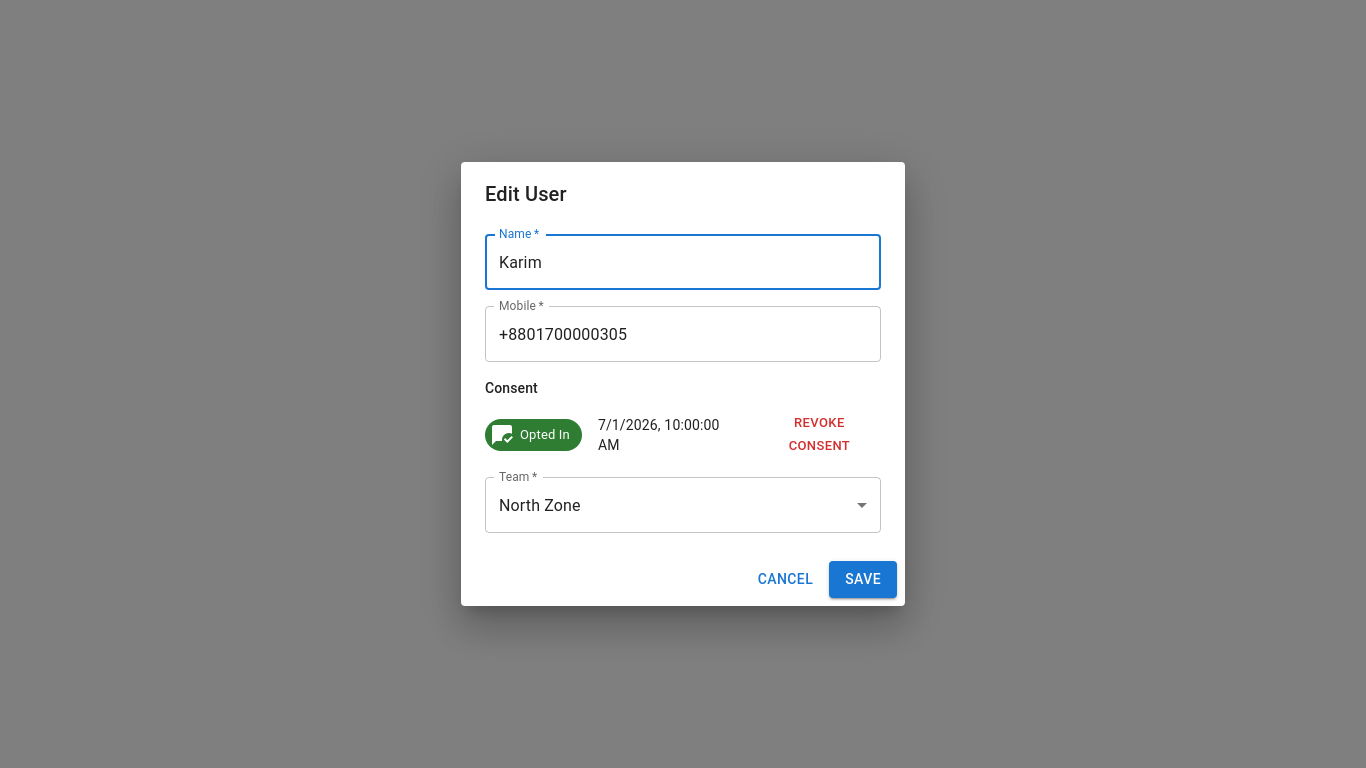
UserFormDialog › clicking Revoke Consent opens the ConfirmationDialog naming the real consequence, DELETEs on confirm, and flips the badge
Click the button "Revoke Consent".
click(819, 435)  # box [758, 408, 881, 462]
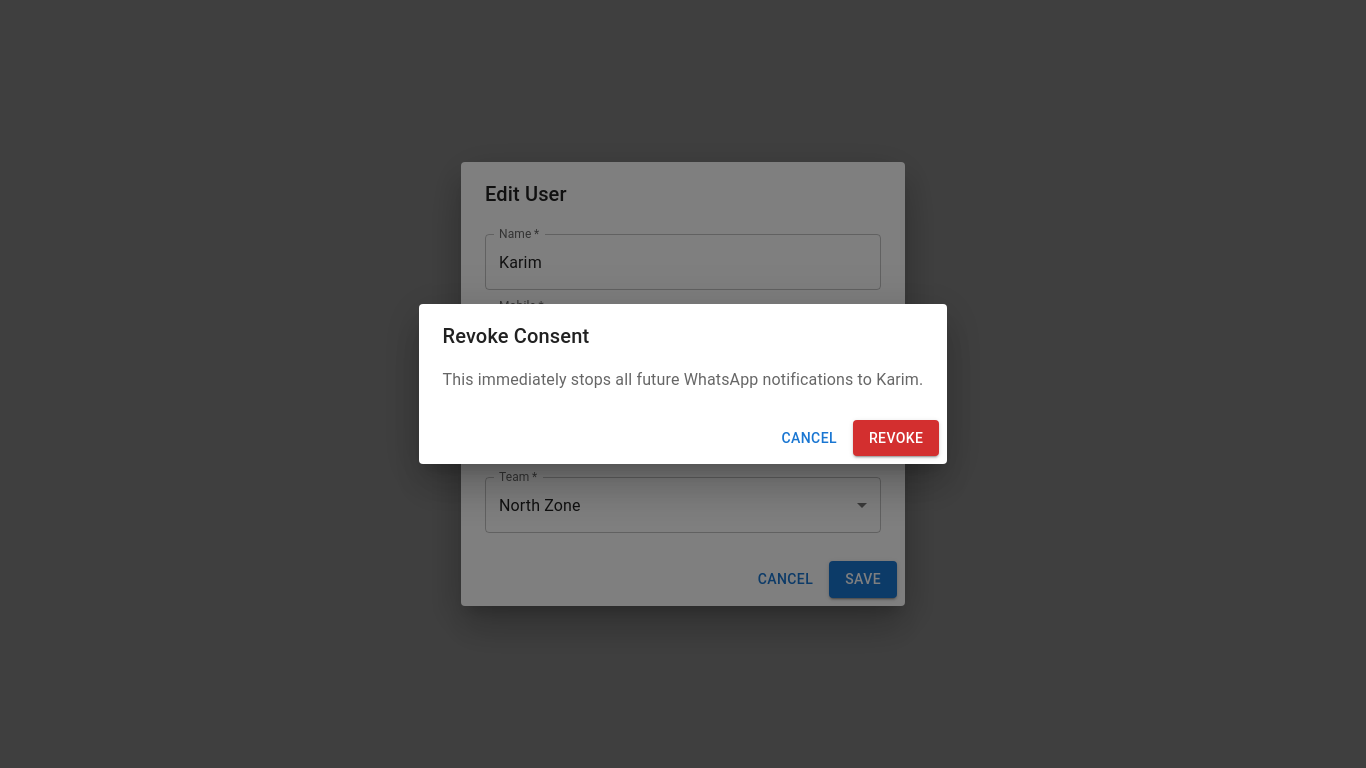
Expected: the text "This immediately stops all future WhatsApp notifications to Karim." is shown, [443, 368, 924, 392]
Click the button "Revoke".
click(896, 438)  # box [853, 420, 940, 456]
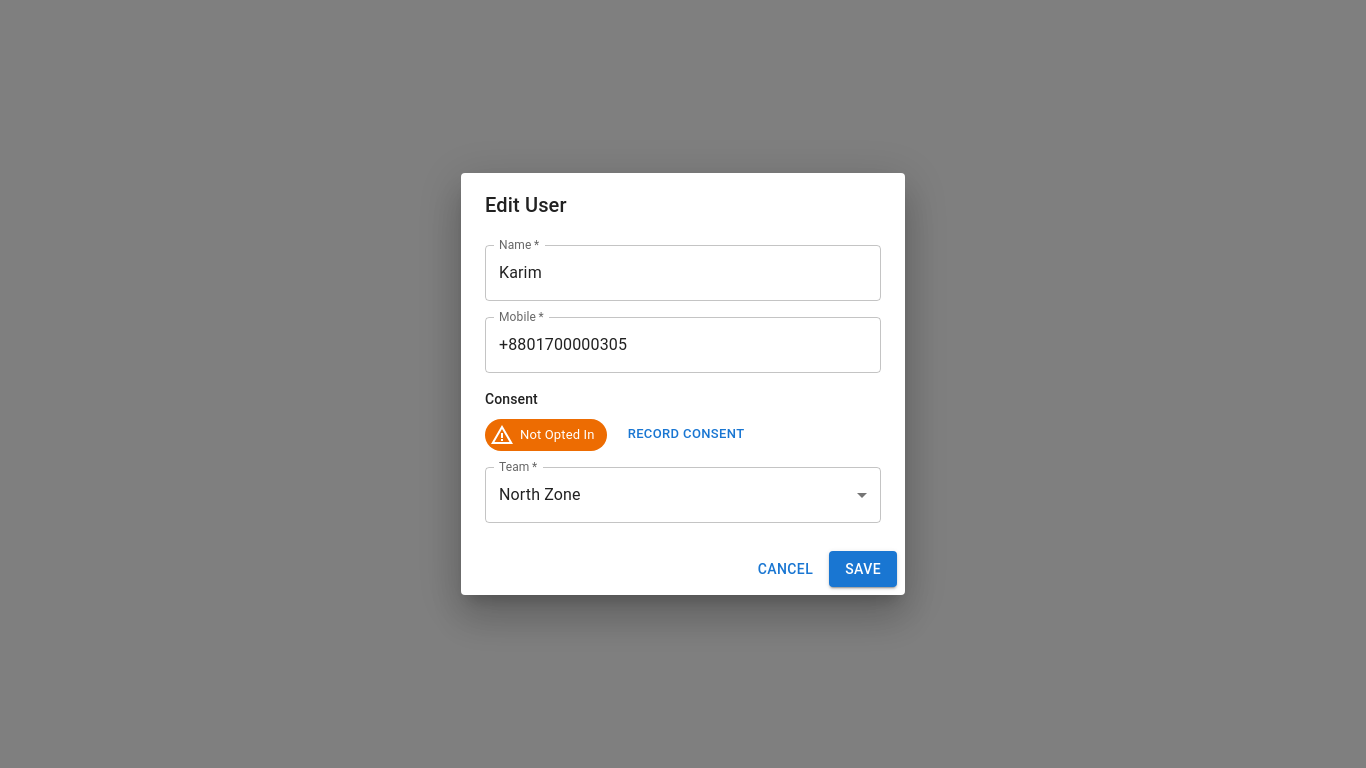
Expected: the text "Not Opted In" is shown, [520, 427, 595, 442]
